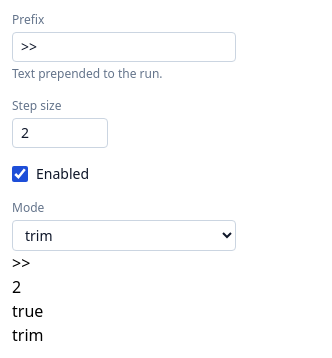
SchemaSettingsPanel › writes a text edit back to the section, live
Replace the text in the field labelled "Prefix" with "## ". click: (124, 47)
box: top-left (12, 32), bottom-right (236, 62)
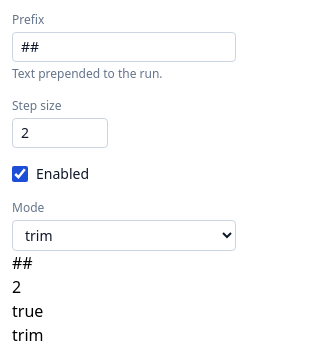
Check: the text with test id "consume-prefix" reads "##", box top-left (12, 252), bottom-right (33, 274)
